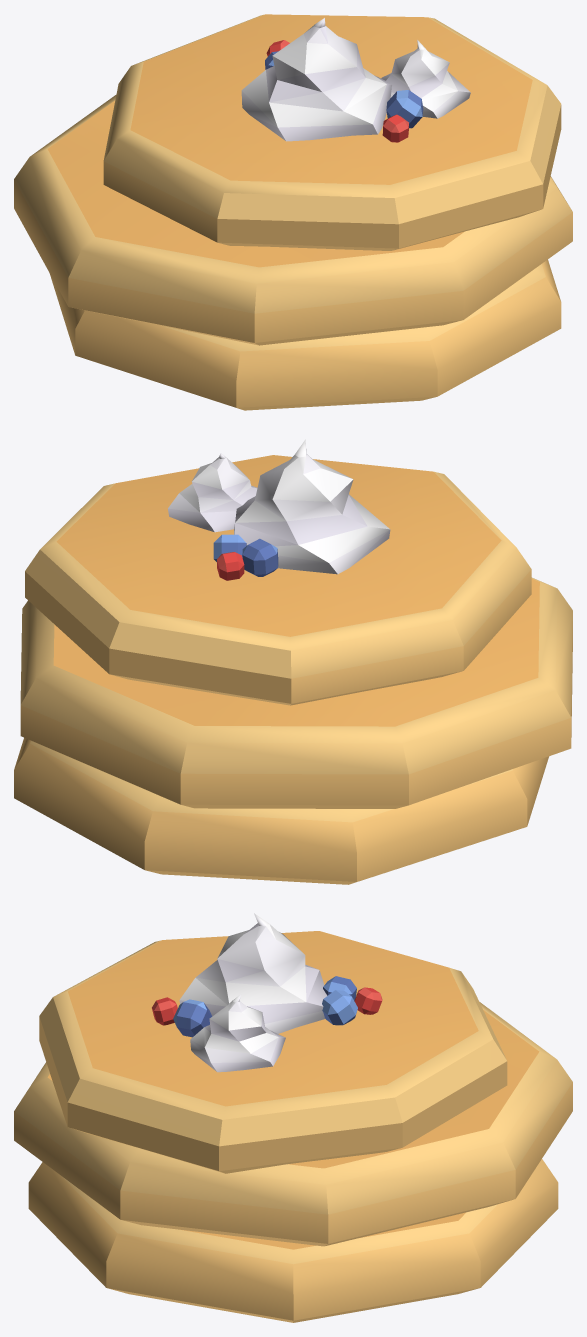
File: Pancakes_Mesh.fbx
3 views of the same model, one above another, from view 1: azimuth 30°, elevation 25°; view 2: azimuth 150°, elevation 25°; view 3: azimuth 270°, elevation 25° (orthographic). The views are drawn at different scales.
Visible parts, largest first — view 1: Pancakes_Mesh; view 2: Pancakes_Mesh; view 3: Pancakes_Mesh.
Boxes of the visible parts, left/top/right/bottom form: Pancakes_Mesh: left=14, top=14, right=572, bottom=410; Pancakes_Mesh: left=14, top=439, right=572, bottom=884; Pancakes_Mesh: left=14, top=913, right=572, bottom=1322.
Size of the model in its own units: 17.65 by 10.85 by 17.65.
Materials: 1 (1 with a texture image).
